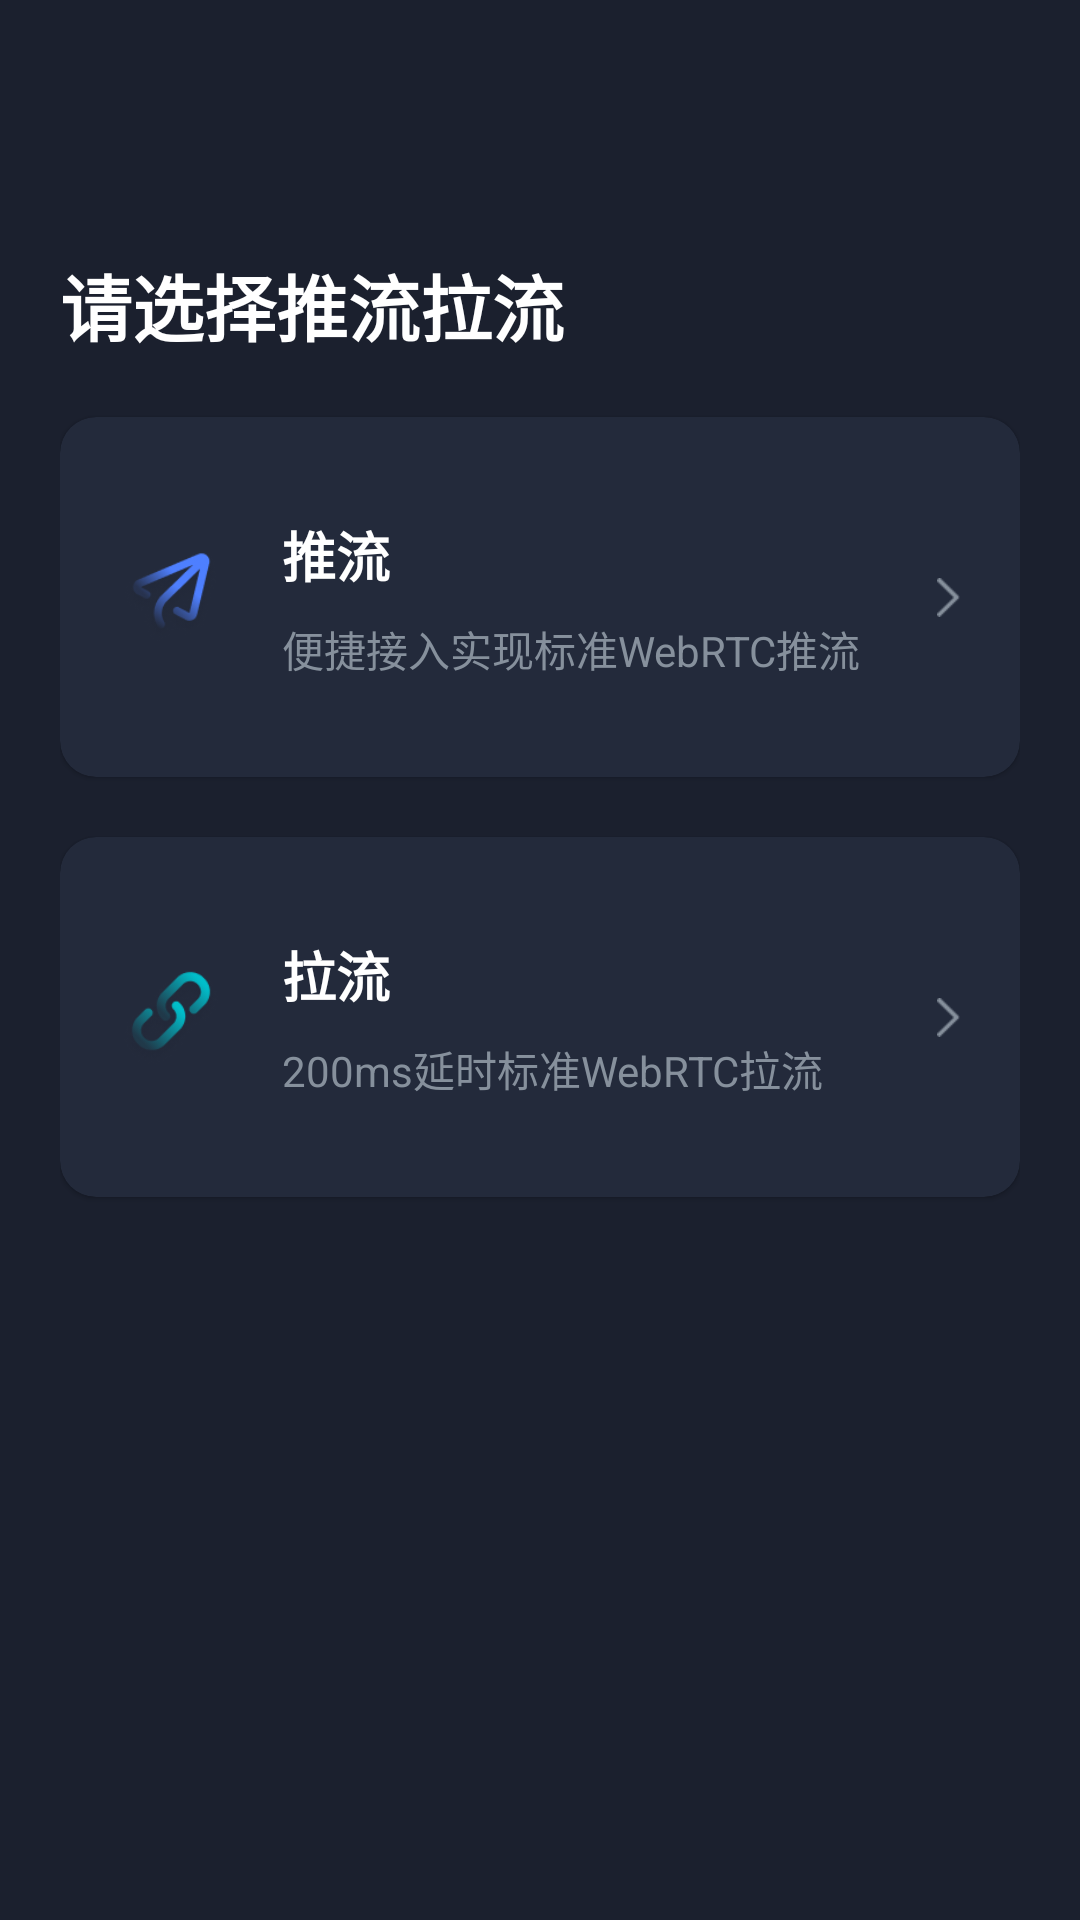

Icons on this 1080 × 1920 Android screen, each with the point to tap as (x=x, y=y):
publish: (x=172, y=589)
